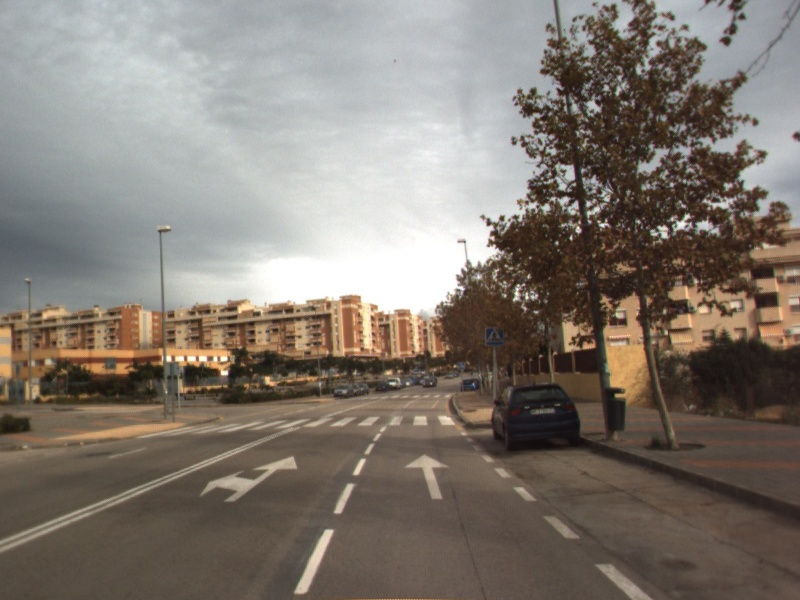STRAIGHT: (402, 452, 451, 501)
STRAIGHT_LEFT: (197, 454, 299, 504)
